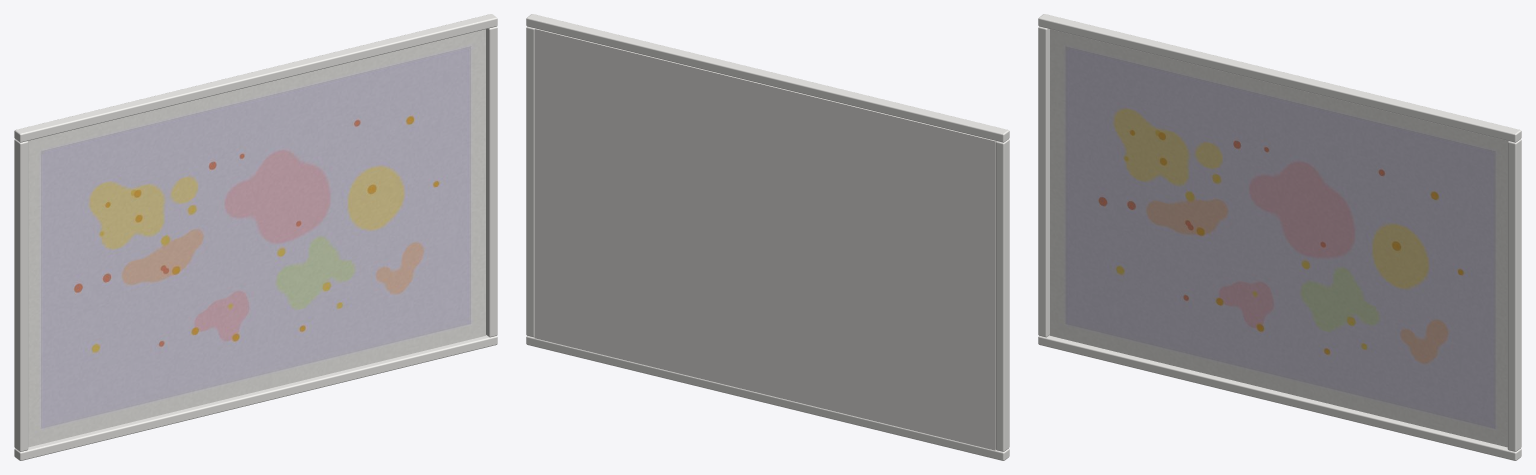
Rendered from picture_frame.glb.
3 views of the same model, side by side, from view 1: azimuth 30°, elevation 25°; view 2: azimuth 150°, elevation 25°; view 3: azimuth 330°, elevation 25° (orthographic).
Visible parts, largest first — view 1: picture_frame_art, picture_frame_frame; view 2: picture_frame_mat, picture_frame_frame; view 3: picture_frame_art, picture_frame_frame.
Boxes of the visible parts, x1,y1,x2,y2 form: picture_frame_art: [27, 29, 485, 447]; picture_frame_frame: [14, 14, 497, 460]; picture_frame_mat: [534, 28, 996, 450]; picture_frame_frame: [526, 14, 1009, 460]; picture_frame_art: [1050, 29, 1508, 447]; picture_frame_frame: [1038, 14, 1521, 460].
Size of the model in its own units: 1.1 by 0.72 by 0.025.
3 materials, 1 textured.
